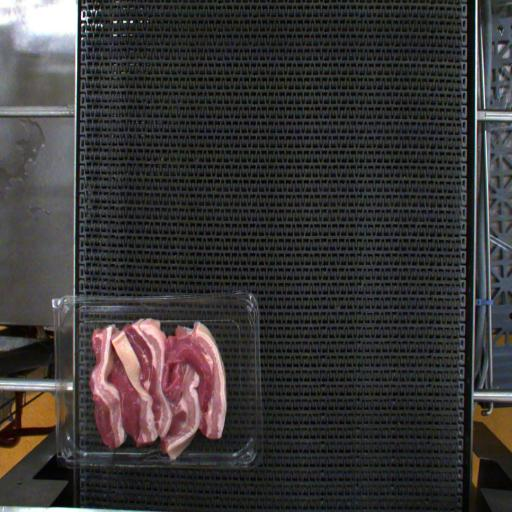twisted-meat: (110, 322, 160, 447)
